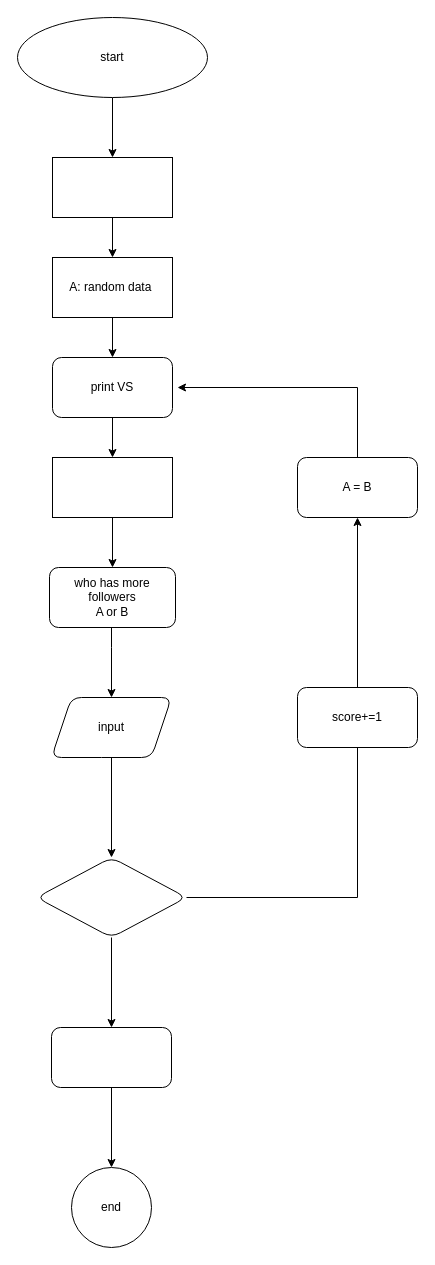
Some shapes in this 435 by 1265 pixel diagram are drawn without their labels. The box of each missing label's shape, as (x1, y1, x2, y2) in pixels:
B: random data: (52, 456, 172, 518)
if input is correct: (36, 856, 186, 938)
print final score: (50, 1026, 172, 1088)
print logo: (52, 156, 172, 218)
